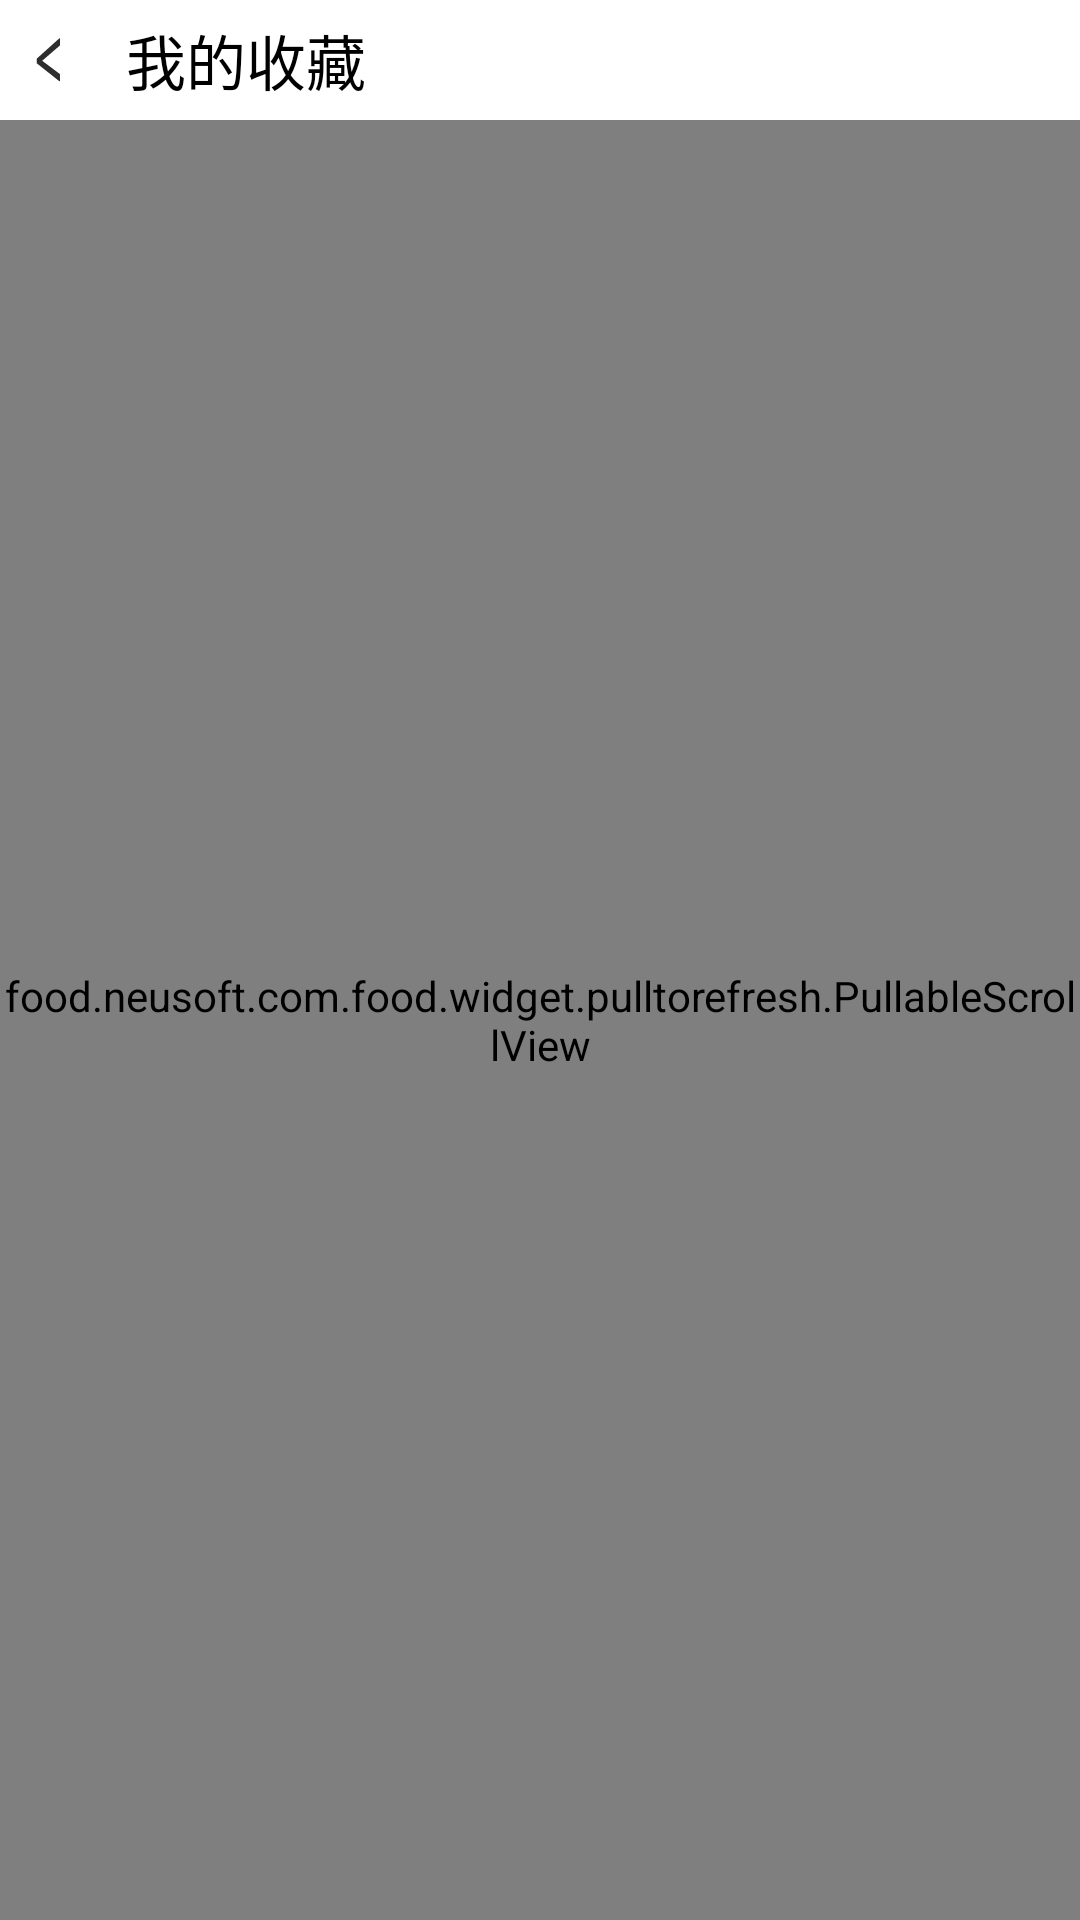

Named icons in this screenshot (1080*1920) and their centers, (x=x, y=y):
re arrow: (x=48, y=60)
